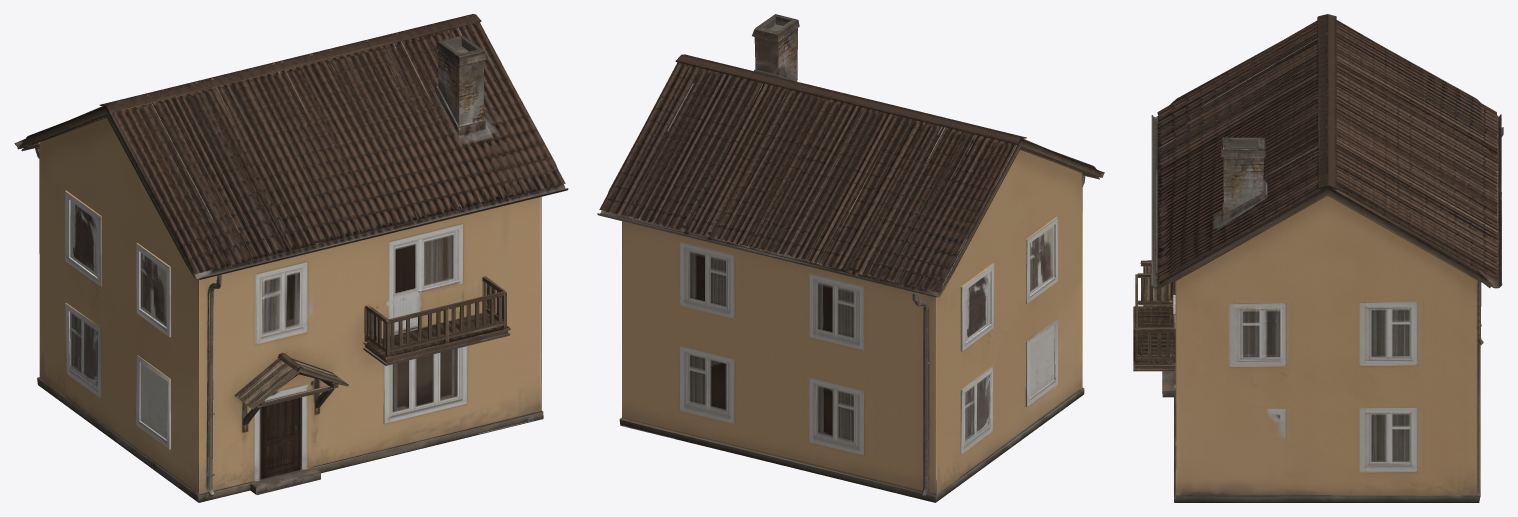
The model's file is house_two_story.glb.
3 renders of one model, left to right at view 1: azimuth 30°, elevation 25°; view 2: azimuth 150°, elevation 25°; view 3: azimuth 270°, elevation 25°, orthographic. The views are drawn at different scales.
Parts seen in each view (by area): view 1: Mesh_0; view 2: Mesh_0; view 3: Mesh_0.
Part boxes in pixels (<box>): Mesh_0: <box>14,14,568,502</box>; Mesh_0: <box>597,14,1104,502</box>; Mesh_0: <box>1133,14,1503,502</box>.
Size of the model in its own units: 0.9565 by 0.8784 by 0.8682.
Materials: 1 (1 with a texture image).
